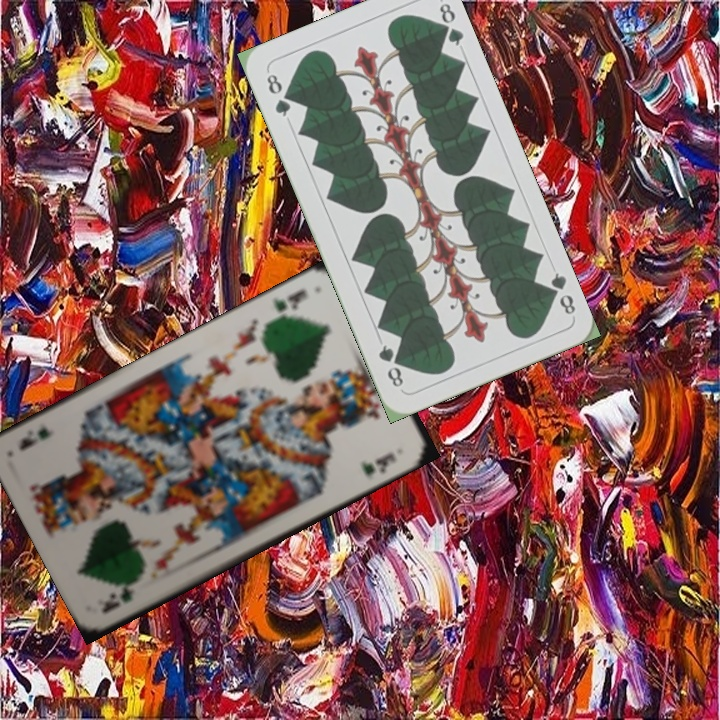G8: (542, 268, 579, 317), (262, 70, 294, 120)
GK: (269, 284, 310, 323), (97, 584, 137, 616)
